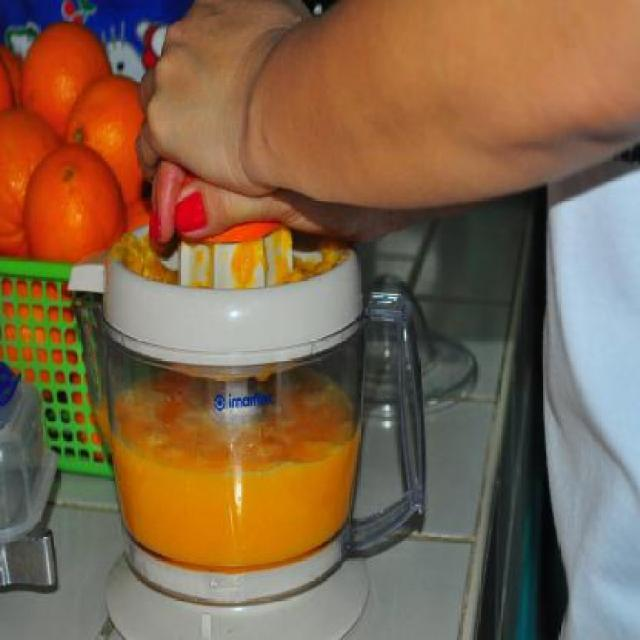Juice: (70, 213, 398, 590)
